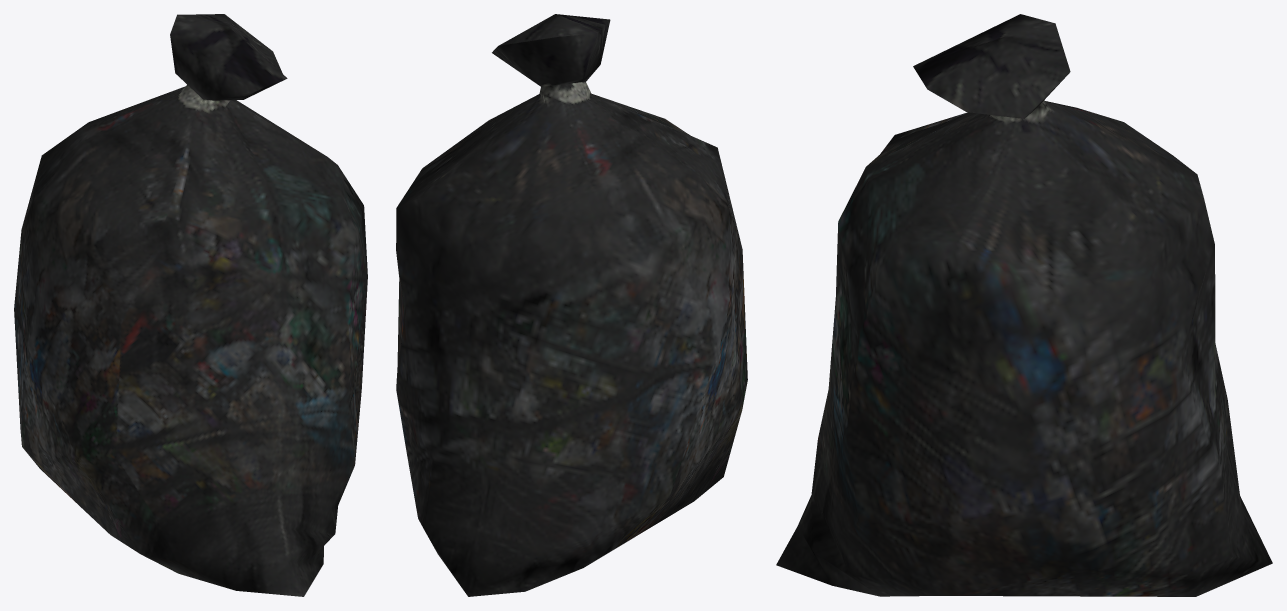
The model's file is CP_Trash_Bag_01.fbx.
3 views of the same model, side by side, from view 1: azimuth 30°, elevation 25°; view 2: azimuth 150°, elevation 25°; view 3: azimuth 270°, elevation 25° (orthographic). The views are drawn at different scales.
Visible parts, largest first — view 1: CP_Trash_Bag_01_LOD0; view 2: CP_Trash_Bag_01_LOD0; view 3: CP_Trash_Bag_01_LOD0.
Boxes of the visible parts, left/top/right/bottom form: CP_Trash_Bag_01_LOD0: left=14, top=14, right=367, bottom=596; CP_Trash_Bag_01_LOD0: left=396, top=14, right=747, bottom=596; CP_Trash_Bag_01_LOD0: left=776, top=14, right=1272, bottom=596.
Size of what is drawn, in the model's own units: 50.75 by 76.61 by 63.44.
